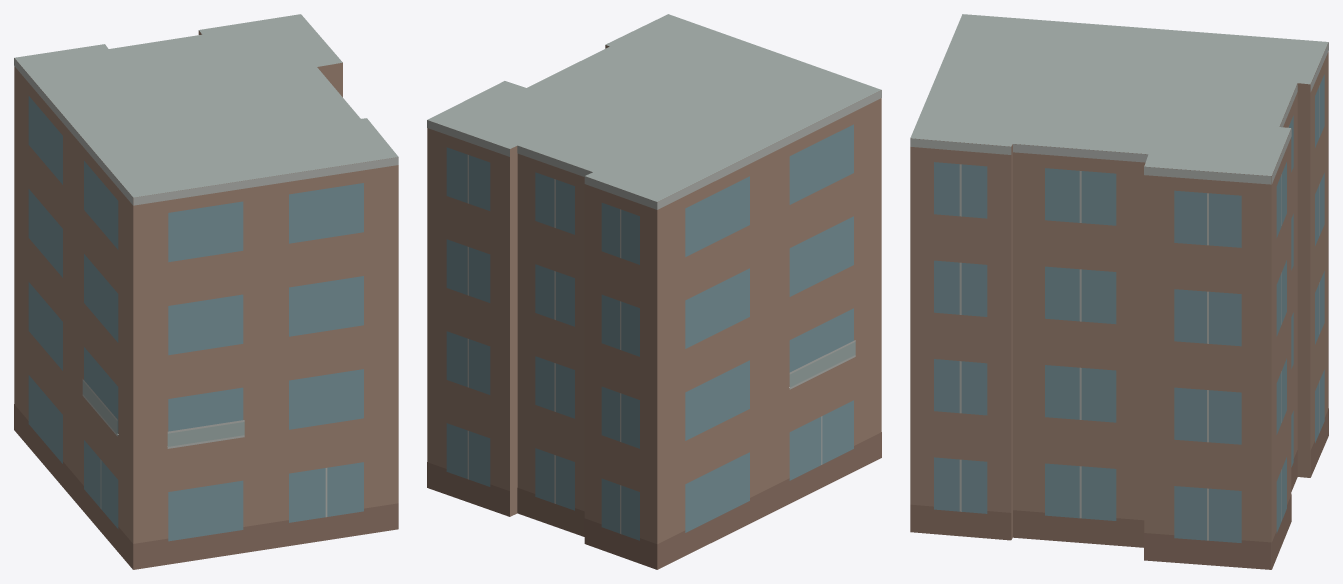
File: survey-upis-32713673.glb
The picture shows the model from 3 angles, left to right: view 1: azimuth 30°, elevation 25°; view 2: azimuth 150°, elevation 25°; view 3: azimuth 270°, elevation 25°; orthographic projection. The views are drawn at different scales.
Parts seen in each view (by area): view 1: survey-upis-32713673.tmp; view 2: survey-upis-32713673.tmp; view 3: survey-upis-32713673.tmp.
Boxes of the visible parts, x1,y1,x2,y2 form: survey-upis-32713673.tmp: (14,14,398,569); survey-upis-32713673.tmp: (427,14,881,569); survey-upis-32713673.tmp: (910,14,1328,569).
Bounding box in the file's own units: 9.98 × 11.3 × 10.89.
